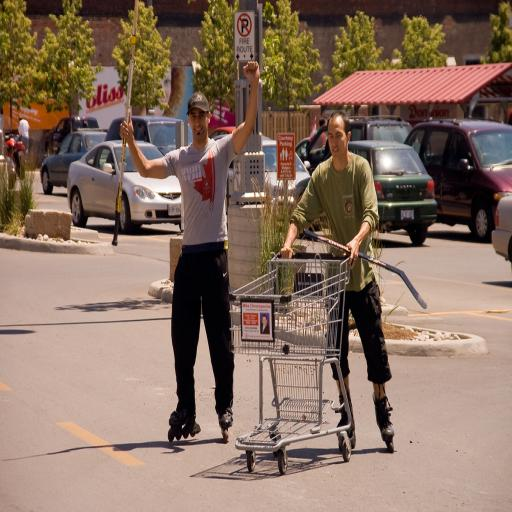shopping_cart: (225, 248, 357, 474)
